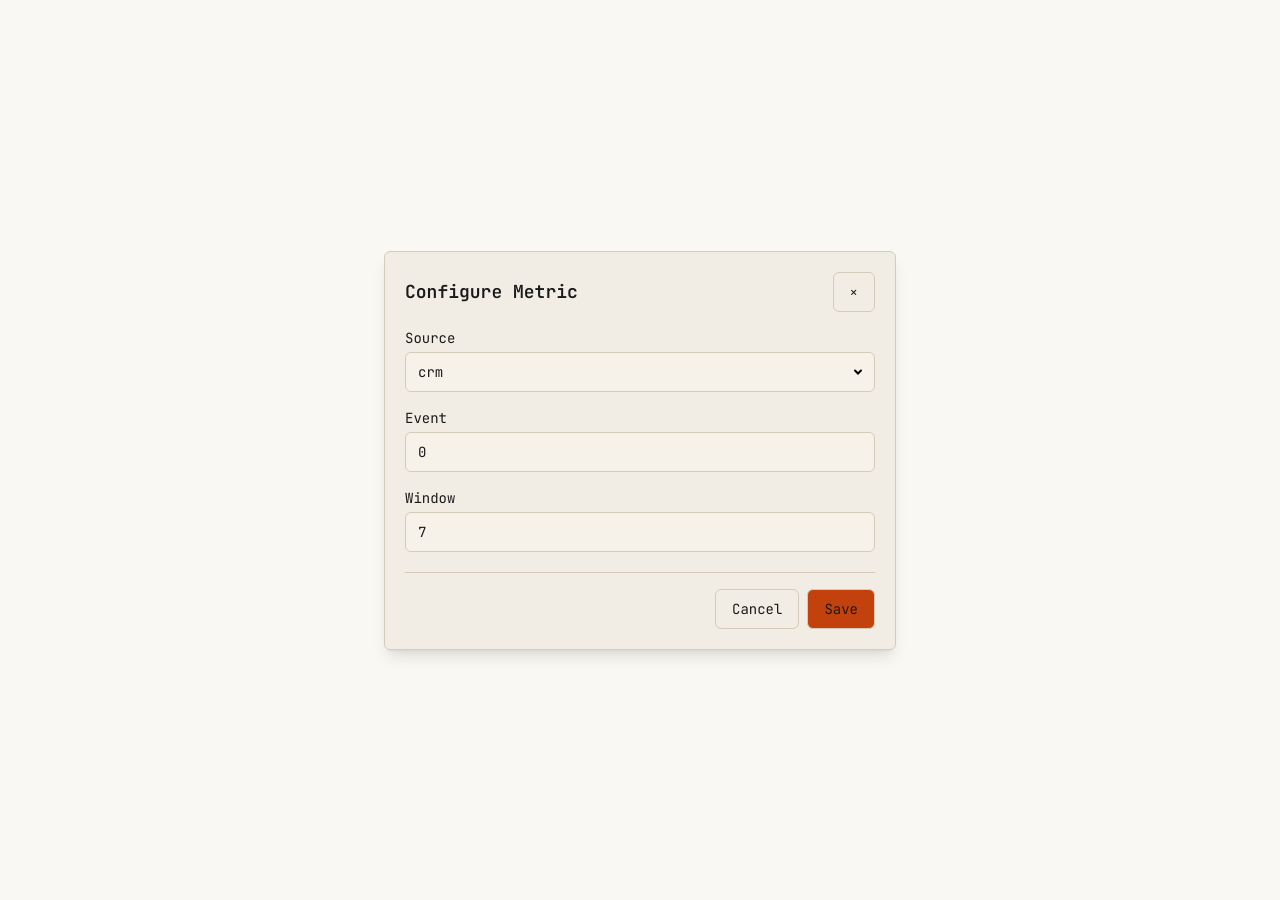
Test: save errors keep the configuration and draft open
This screenshot has width=1280, height=900.
Replace the text in the number field labelled "Window" with "12" at x=640, y=532, box [405, 512, 875, 552]
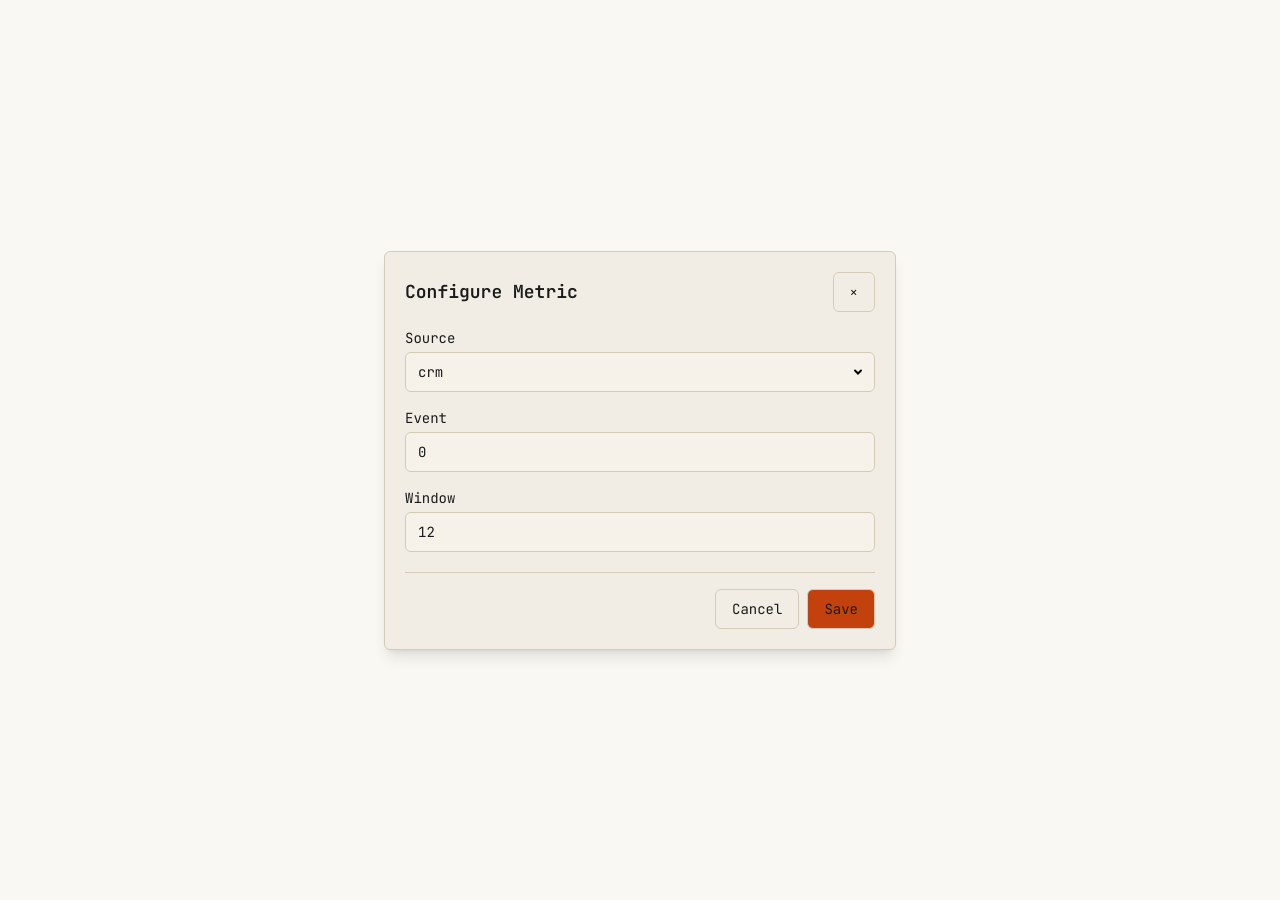
Click the button "Save" at x=841, y=608, box [807, 588, 875, 628]
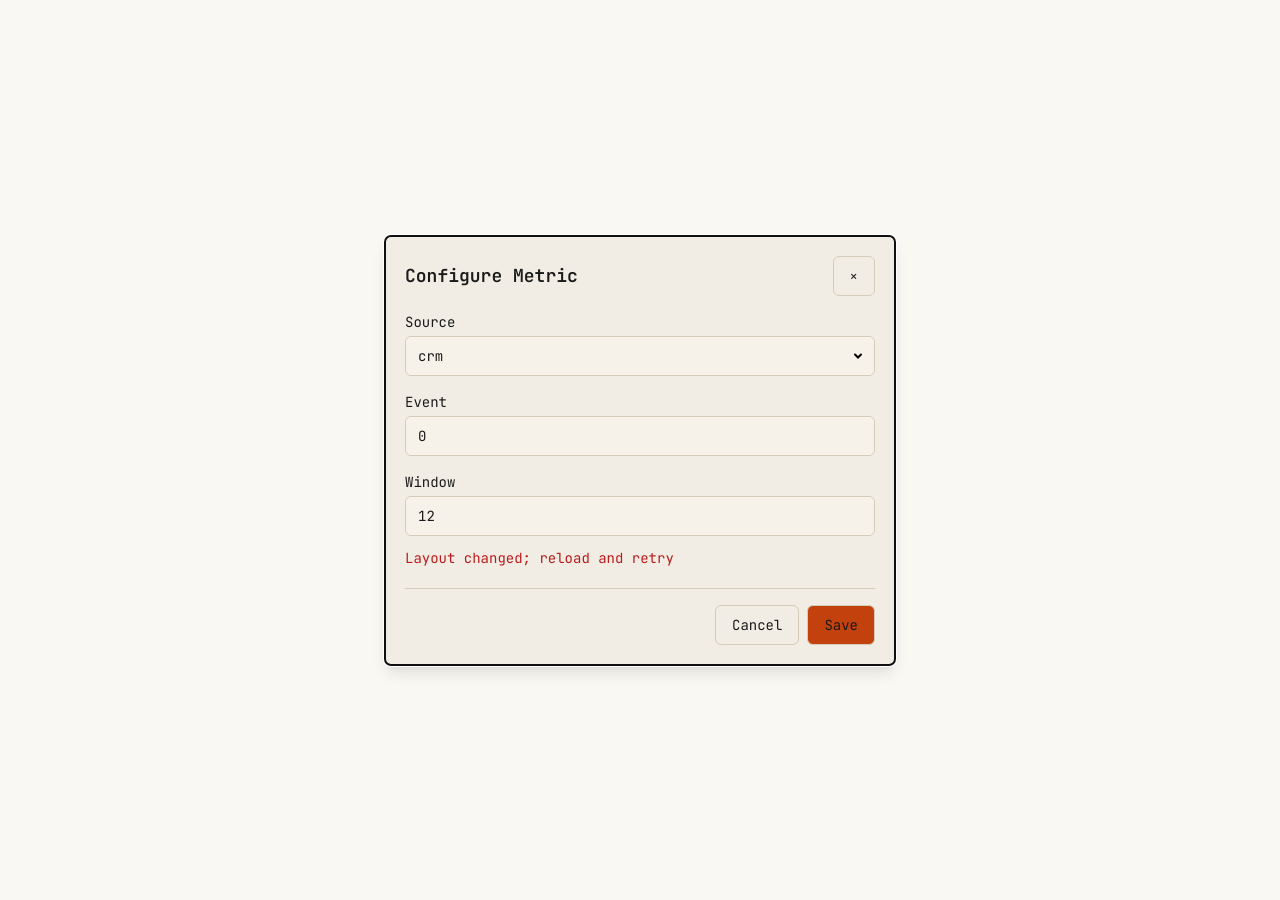
Expected: the text "Layout changed; reload and retry" is shown, [405, 548, 674, 566]
